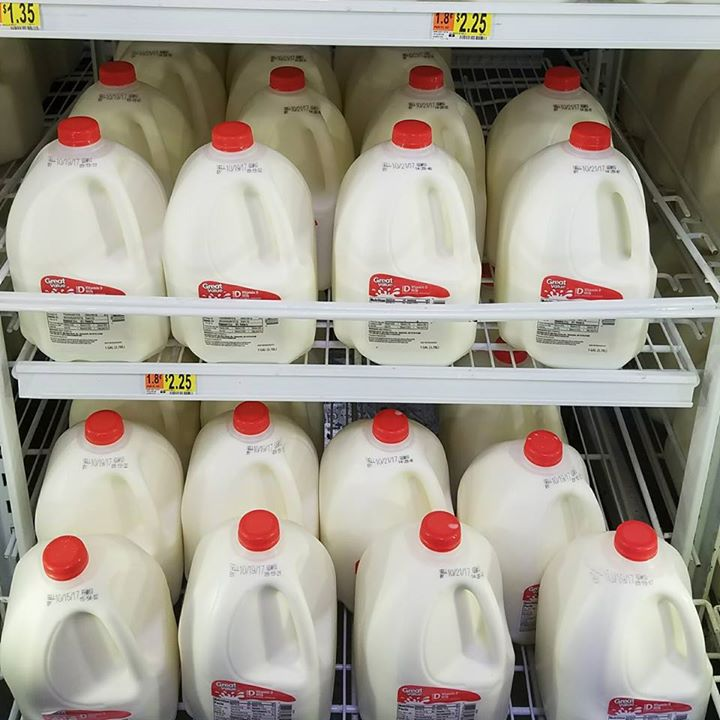milk: (335, 139, 499, 358), (13, 130, 166, 359), (511, 135, 661, 366), (178, 134, 325, 364), (6, 534, 183, 716), (362, 528, 516, 720), (547, 536, 705, 720), (195, 527, 349, 715), (37, 416, 186, 552), (477, 420, 615, 555), (54, 63, 199, 172), (235, 64, 355, 188), (193, 410, 323, 524), (331, 415, 454, 519), (382, 74, 495, 186), (505, 63, 631, 163)
